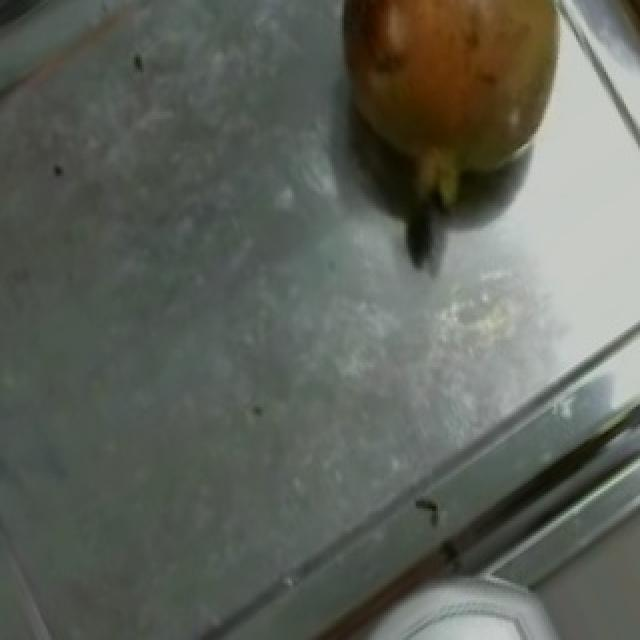fruit: (308, 0, 578, 213)
